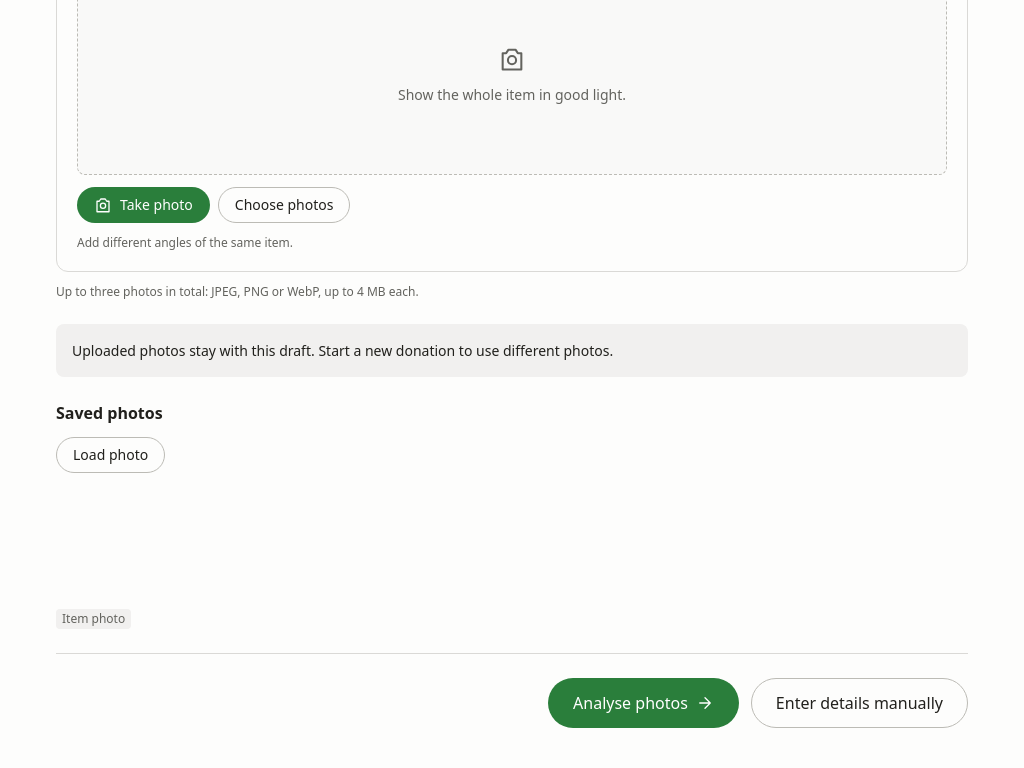
saves the displayed category after manual entry of an uncategorised draft
(page scrolled)
Click the button "Enter details manually" at (859, 703), box [751,678,968,728]
(page scrolled)
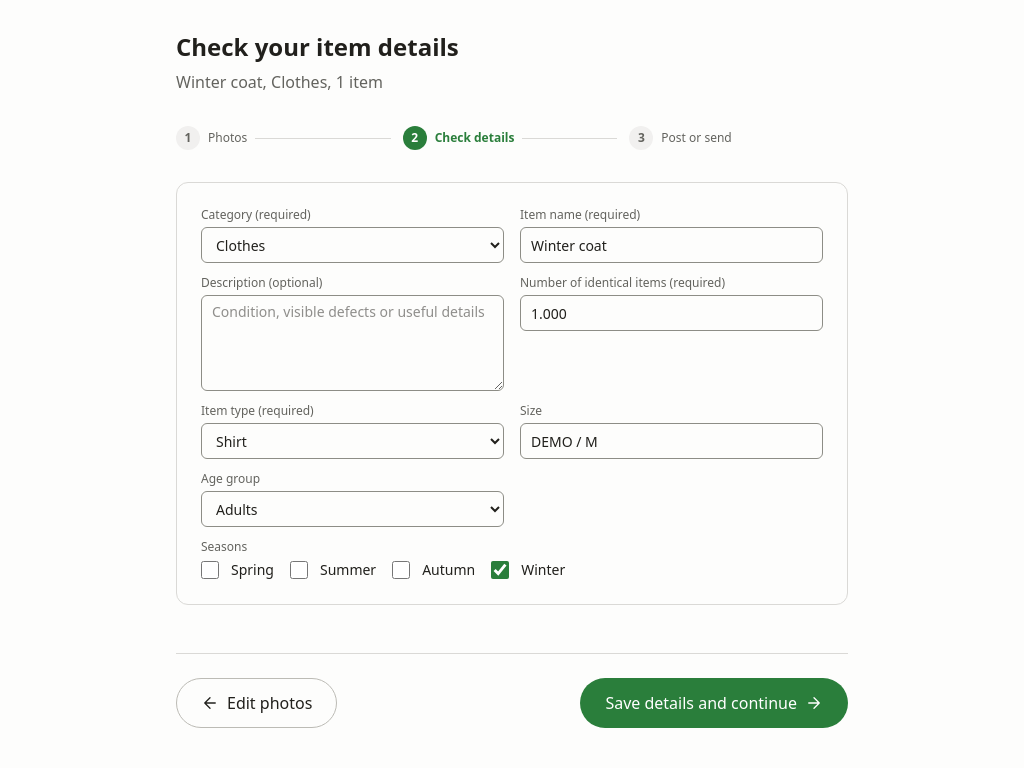
expect the dropdown with id "category" shows "Clothes": met, box [201,227,504,263]
Submit the form with id "donation-details", box [176,182,848,605]
(page scrolled)
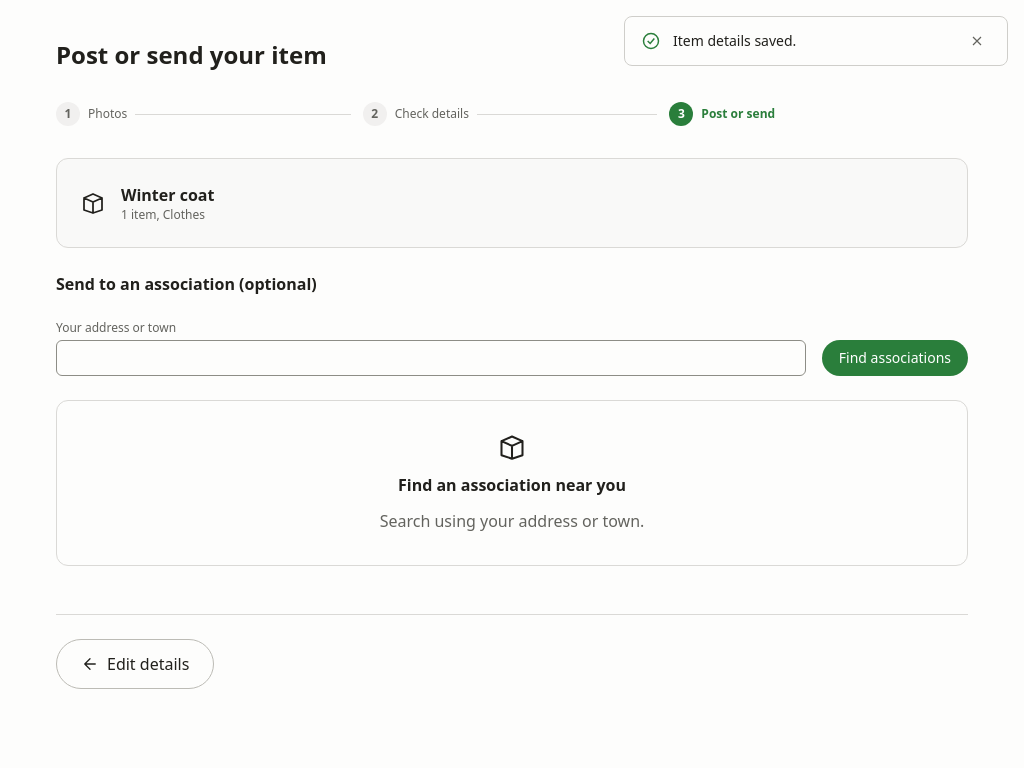
expect the message with class "notification-success" reads "Item details saved.": met, box [673,31,796,50]
expect the form with id "donation-details" is gone: met
